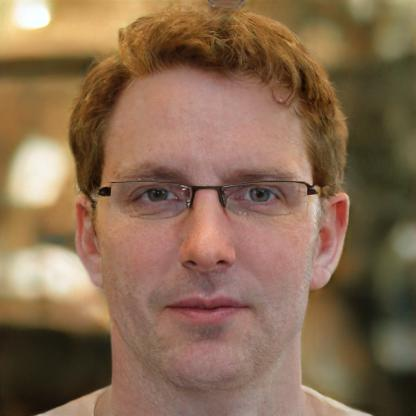glasses: (92, 169, 318, 233)
